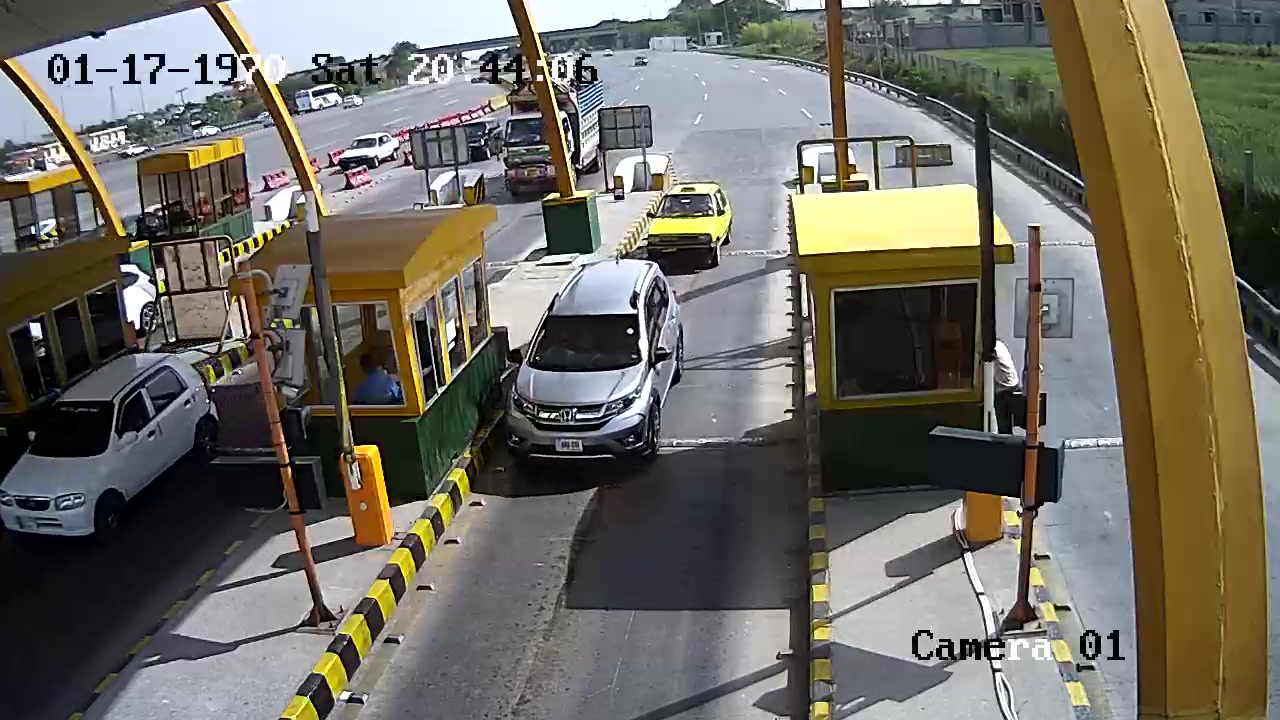F1: (504, 256, 682, 466)
